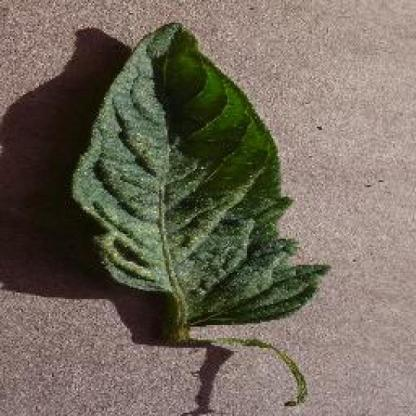Tomato_Spider_Mites: (72, 24, 330, 318)
